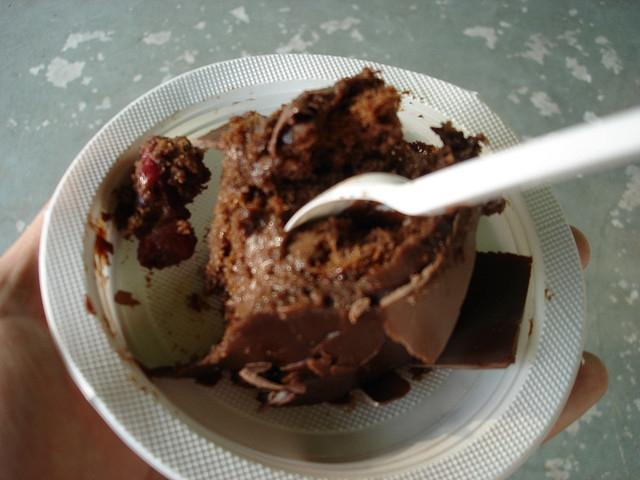cherry: (138, 155, 164, 202)
